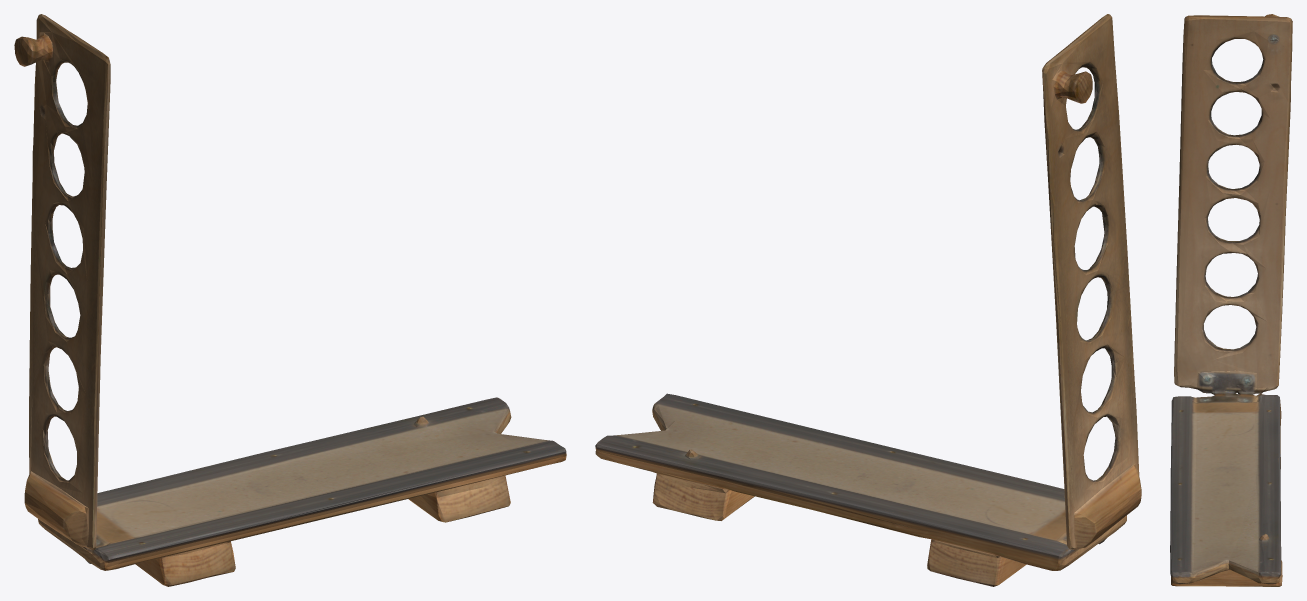
The picture shows the model from 3 angles, left to right: view 1: azimuth 30°, elevation 25°; view 2: azimuth 150°, elevation 25°; view 3: azimuth 270°, elevation 25°; orthographic projection. The views are drawn at different scales.
Parts seen in each view (by area): view 1: Pfingstrosen Schablone_2k_2k; view 2: Pfingstrosen Schablone_2k_2k; view 3: Pfingstrosen Schablone_2k_2k.
Part boxes in pixels (bbox=[...]): Pfingstrosen Schablone_2k_2k: bbox=[14, 14, 566, 586]; Pfingstrosen Schablone_2k_2k: bbox=[595, 14, 1141, 586]; Pfingstrosen Schablone_2k_2k: bbox=[1170, 14, 1292, 586].
Size of the model in its own units: 0.3002 by 0.3156 by 0.0831.
Materials: 1 (1 with a texture image).
